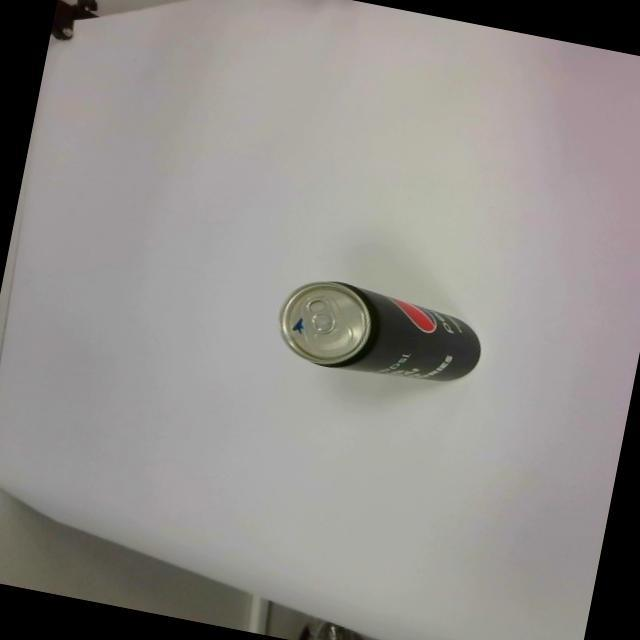debris: (269, 270, 489, 398)
